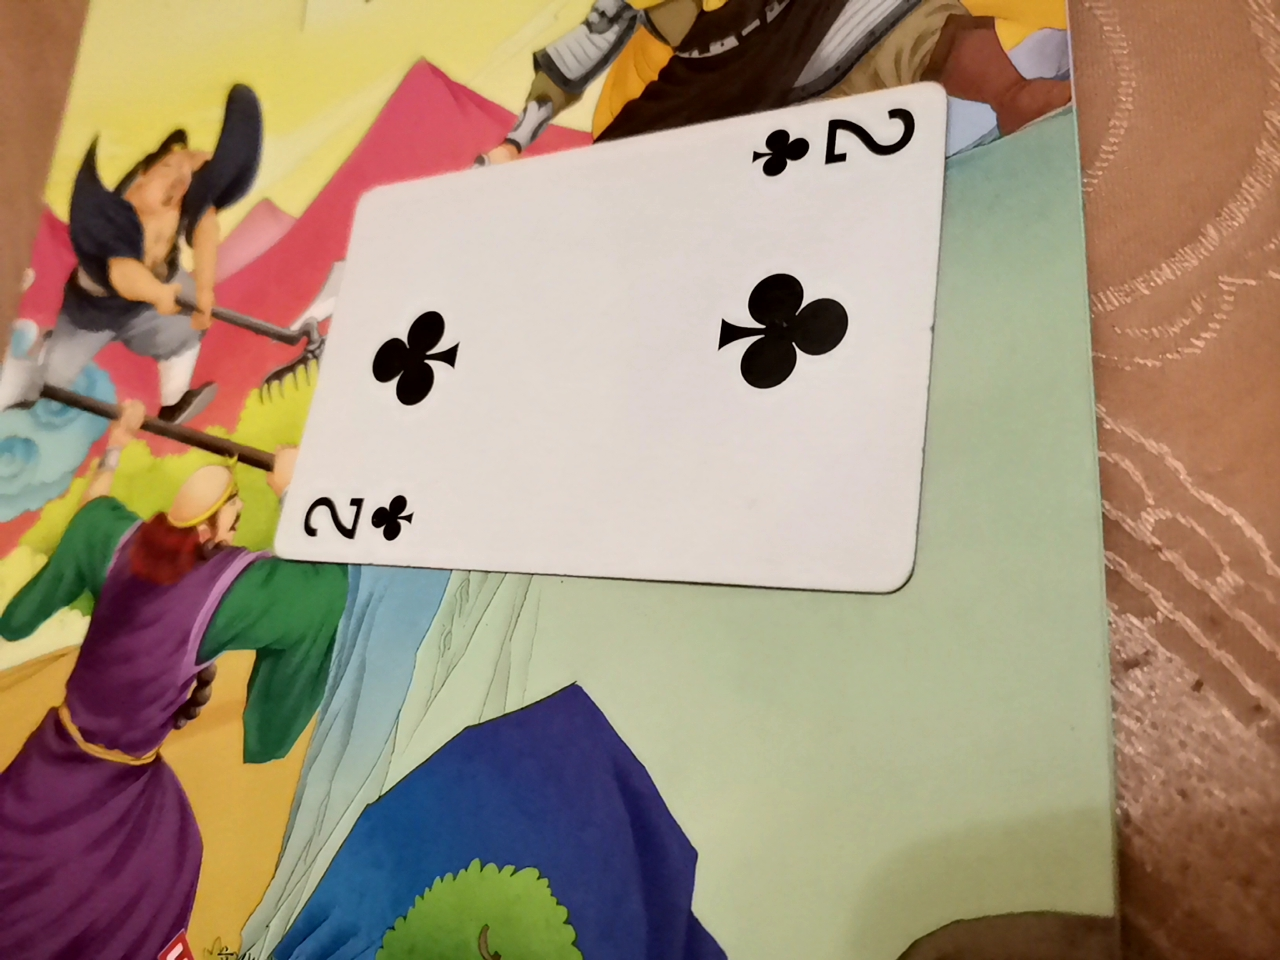mh 2: (312, 83, 952, 604)
